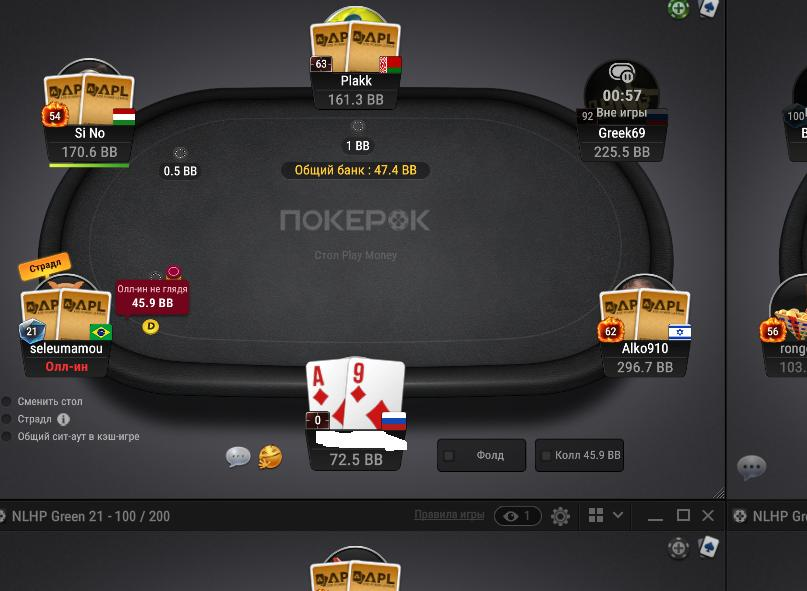9d: (346, 354, 408, 432)
Ad: (306, 359, 348, 432)
